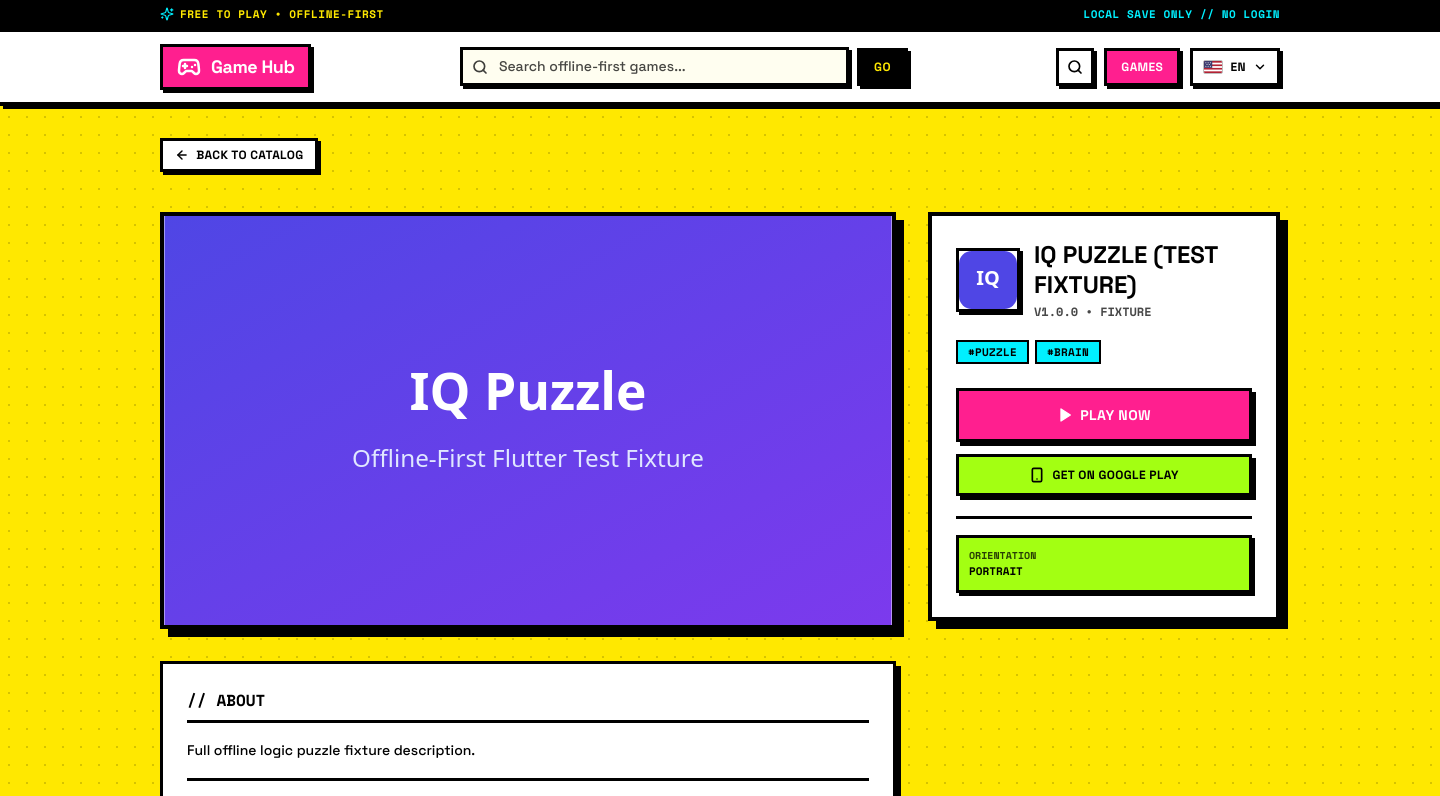
Game Hub Public & Admin Flows › switches UI and game metadata localization between EN, VI, and JA
Expected: the button "Play Now" is shown, [956,388,1252,442]
Expected: the 5th icon is shown, [1203,60,1223,74]
Click the button with aria-label "select language" at {"x": 1235, "y": 66}, box [1190,48,1280,86]
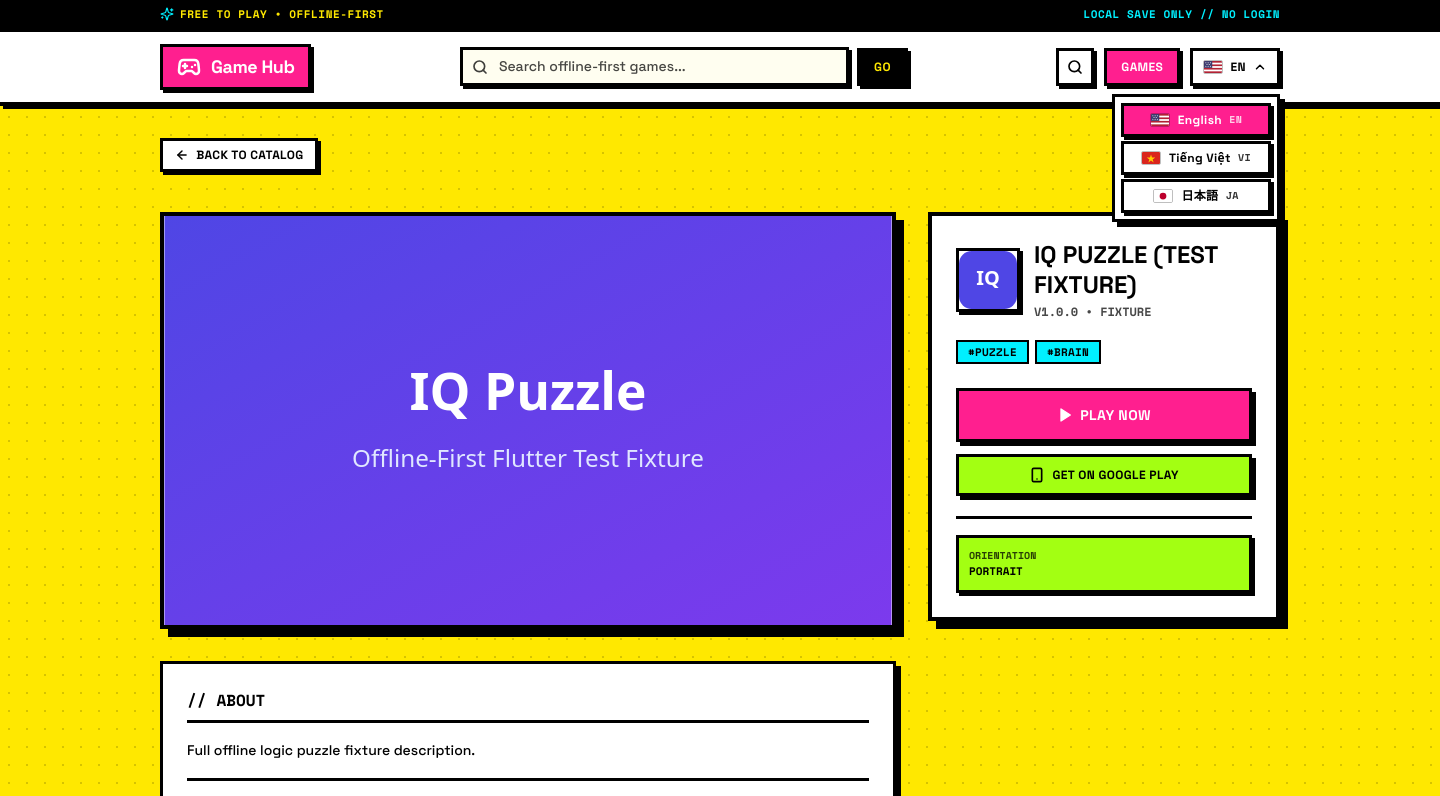
Click the option "Tiếng Việt VI" at {"x": 1196, "y": 158}, box [1121,140,1271,174]
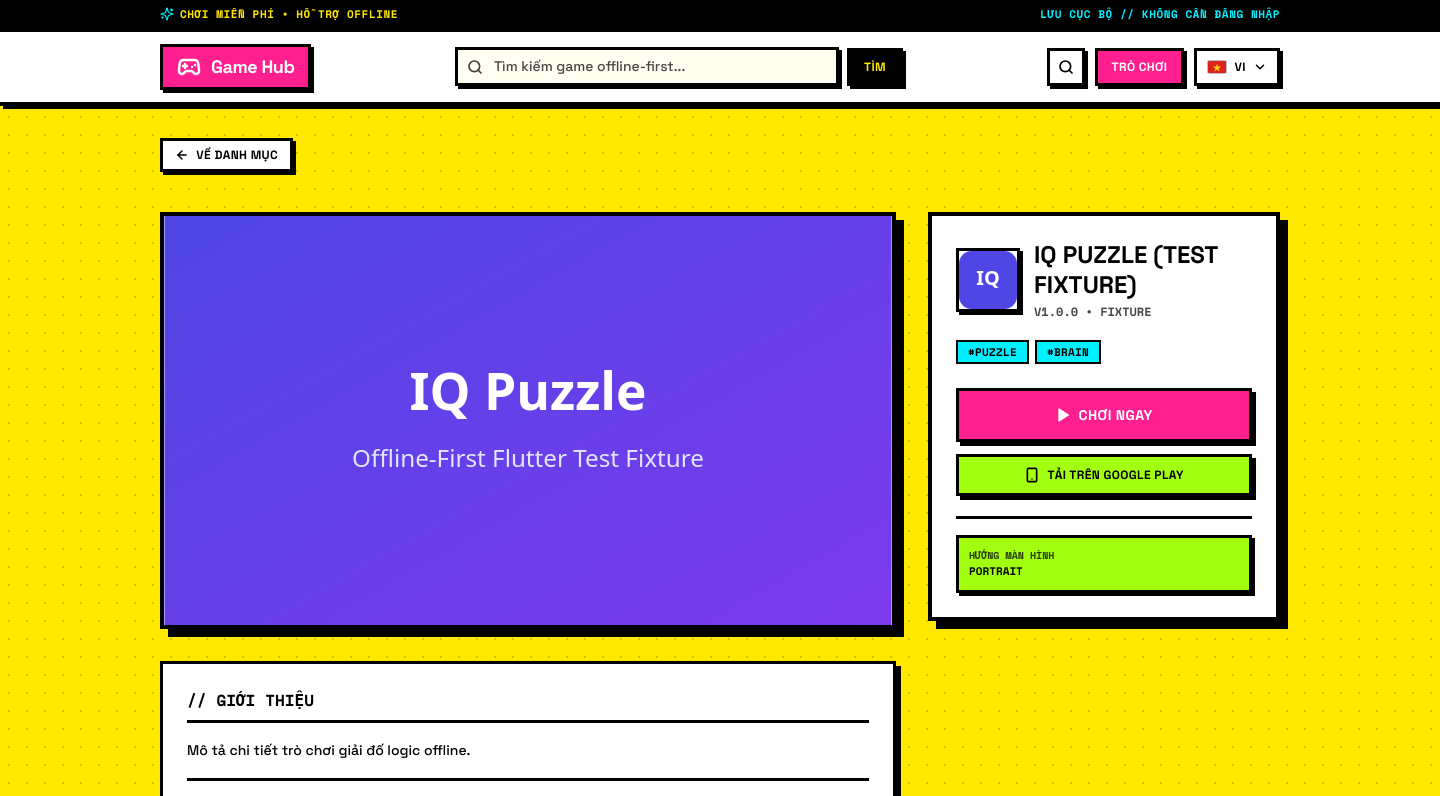
Now the button "Chơi ngay" is shown, box [956,388,1252,442]
Now the text "Mô tả chi tiết trò chơi giải đố logic offline." is shown, box [187,741,470,759]
Click the button with aria-label "chọn ngôn ngữ" at {"x": 1237, "y": 66}, box [1194,48,1280,86]
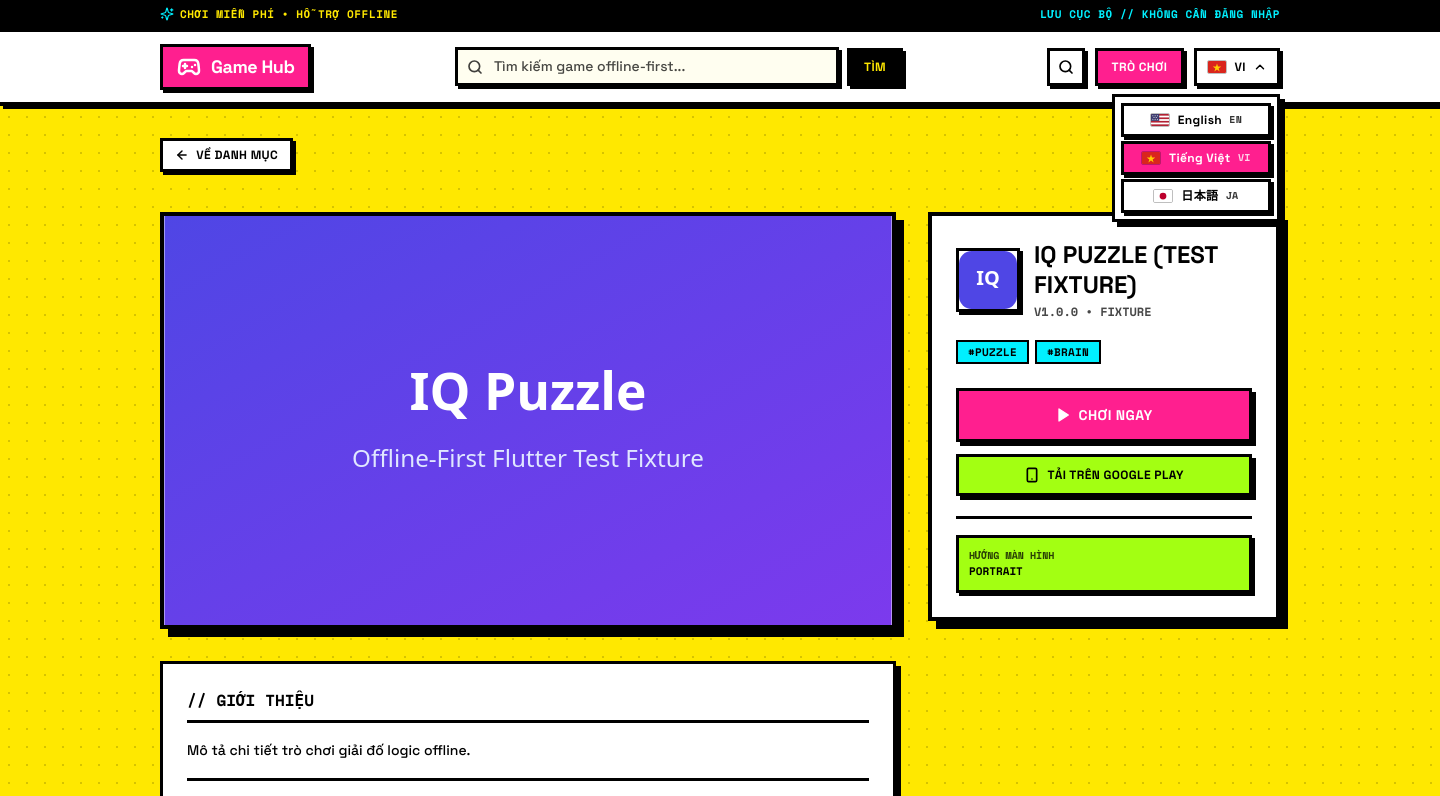
Click the option "日本語 JA" at {"x": 1196, "y": 196}, box [1121,178,1271,212]
(page scrolled)
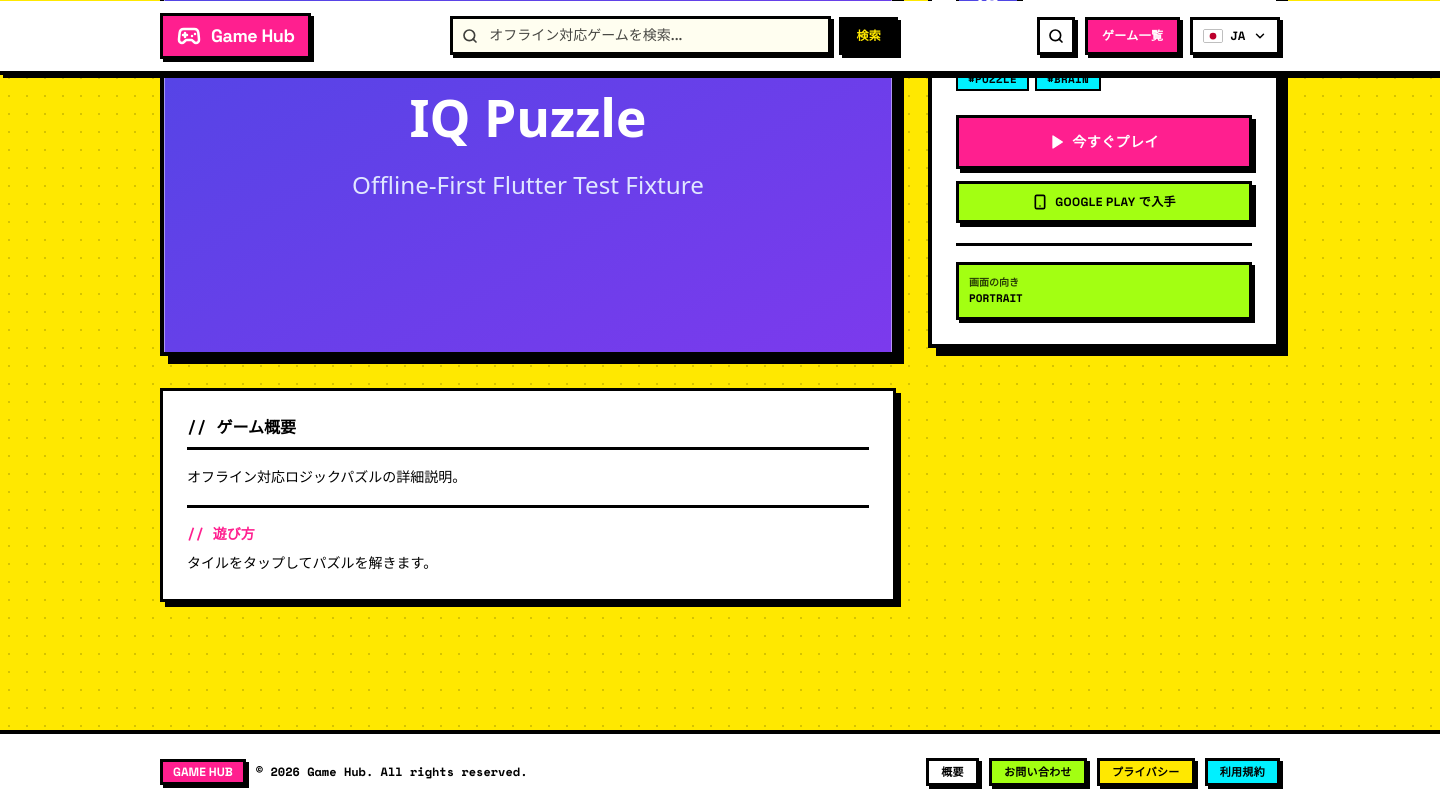
Now the button "今すぐプレイ" is shown, box [956,115,1252,169]
Now the text "オフライン対応ロジックパズルの詳細説明。" is shown, box [187,468,466,486]
Now the text "タイルをタップしてパズルを解きます。" is shown, box [187,554,437,572]
